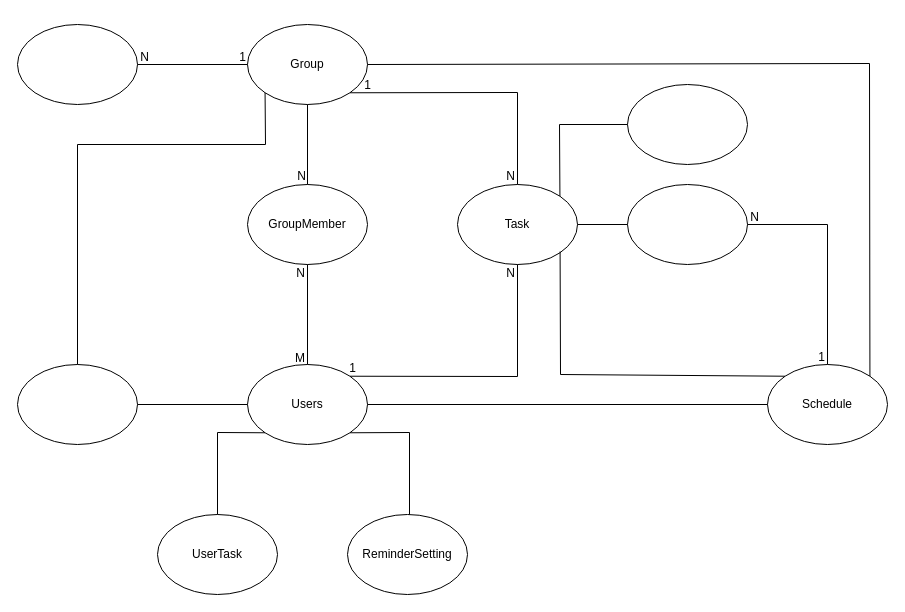
The diagram is 905 pixels wide and 612 high, and some of its shapes have lost their labels. Here are the shapes that lost their labels. From the top down, the centre of each, then its label:
At pixel 77 64: "UrgentNotofocation".
At pixel 687 124: "Meme".
At pixel 687 224: "Subject".
At pixel 77 404: "SessionSchedule".
